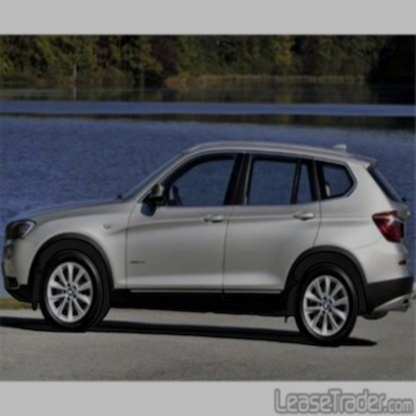Vehicle: (2, 140, 415, 348)
